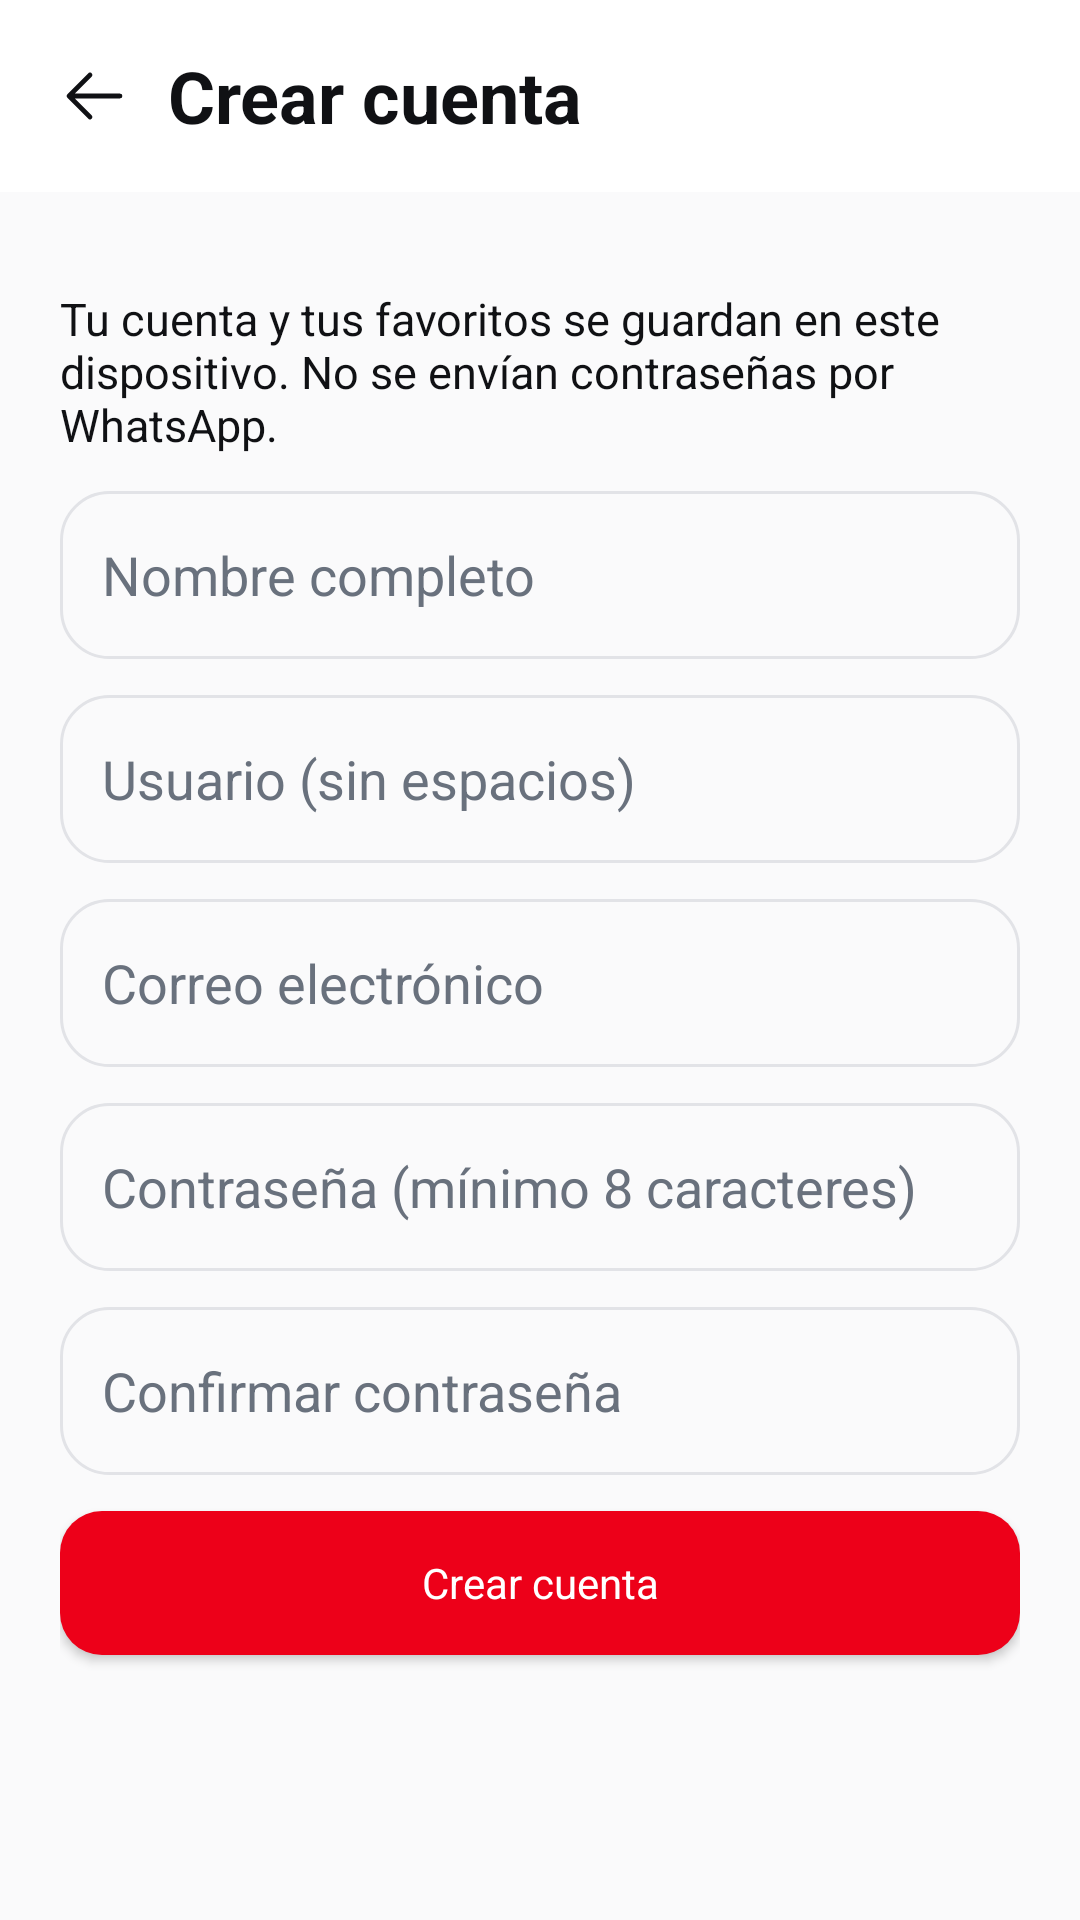

Icon click points for this 1080x1920 phone screenshot, format [x,y]:
Volver: [94,96]
